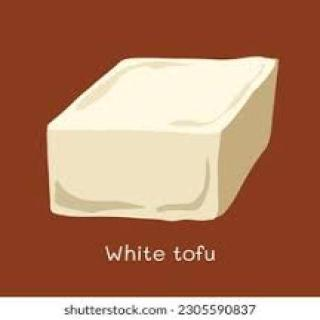Tahu: (42, 39, 290, 232)
